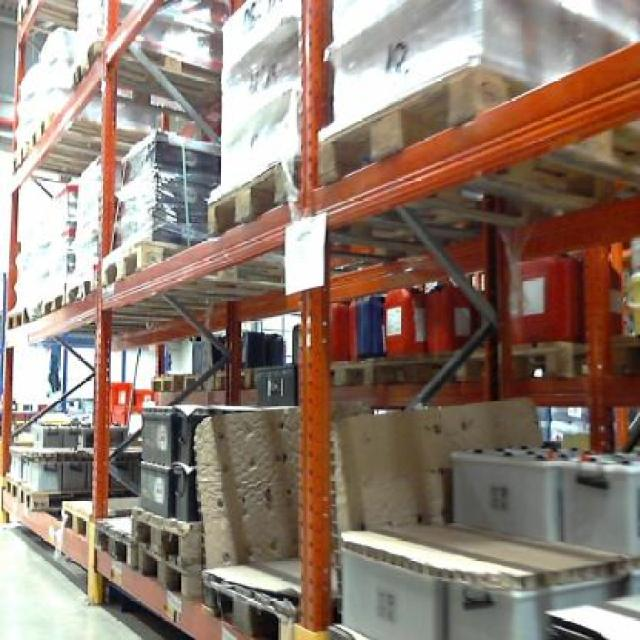ground: (0, 510, 195, 638)
pallet: (315, 62, 514, 188), (336, 334, 581, 393), (91, 511, 203, 600), (195, 556, 299, 638), (208, 159, 296, 235), (100, 231, 185, 285), (59, 493, 97, 538), (4, 309, 34, 330), (148, 375, 180, 391)
